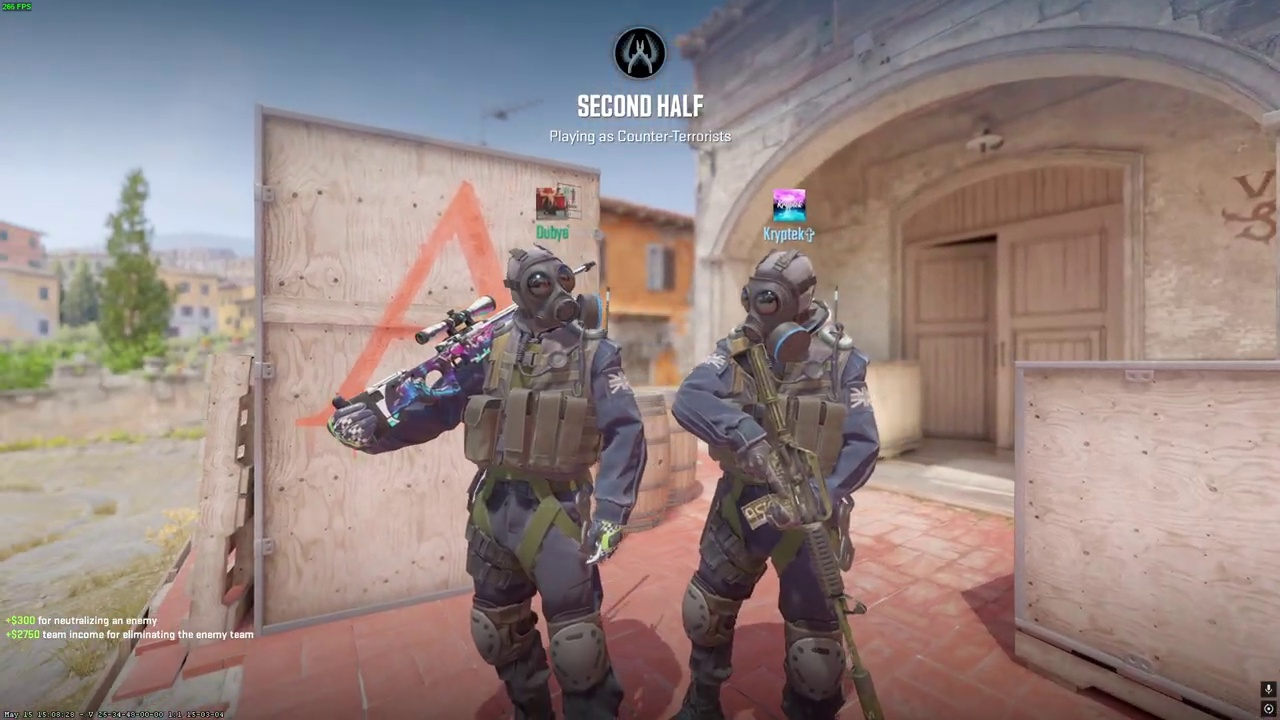CT: (418, 242, 644, 720), (665, 248, 887, 720)
